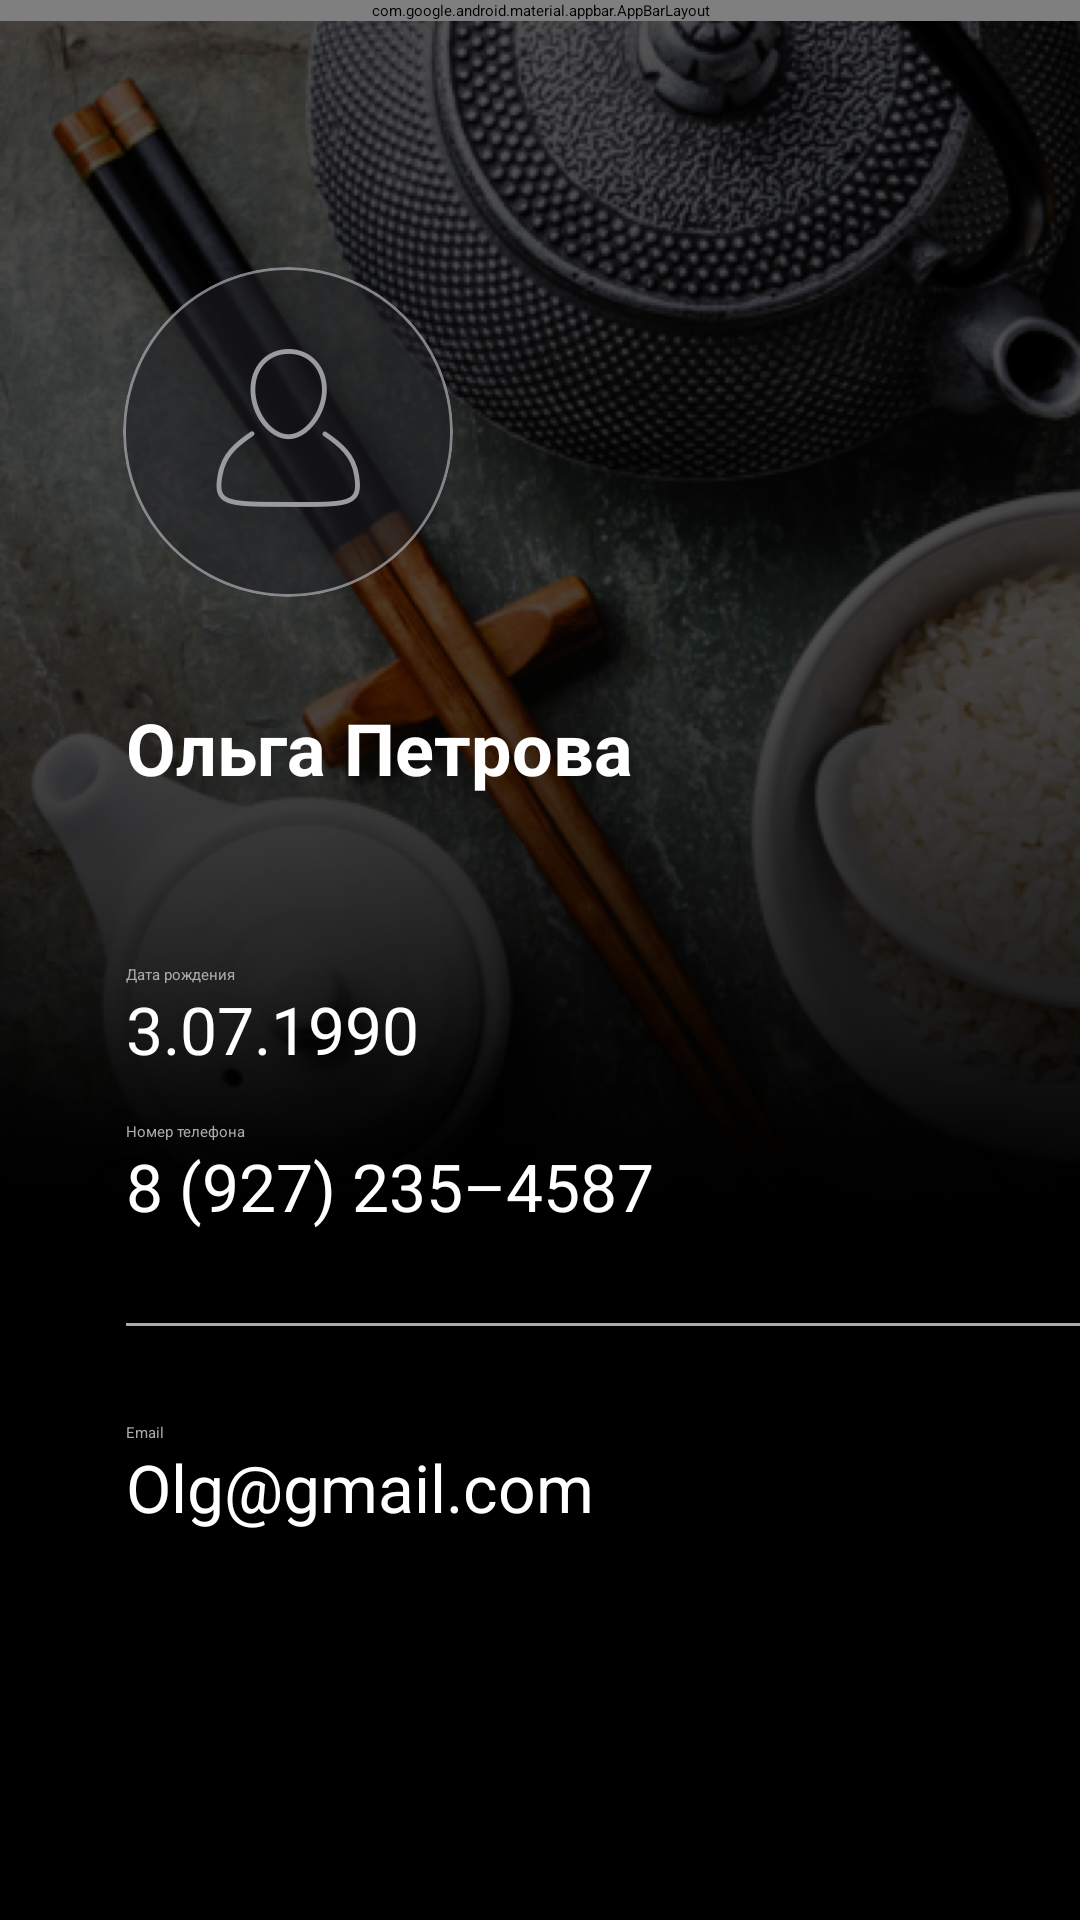

Icons on this 1080w x 1920h Android screen, each with the point to tap as point (x, y):
notphoto: point (288, 432)
